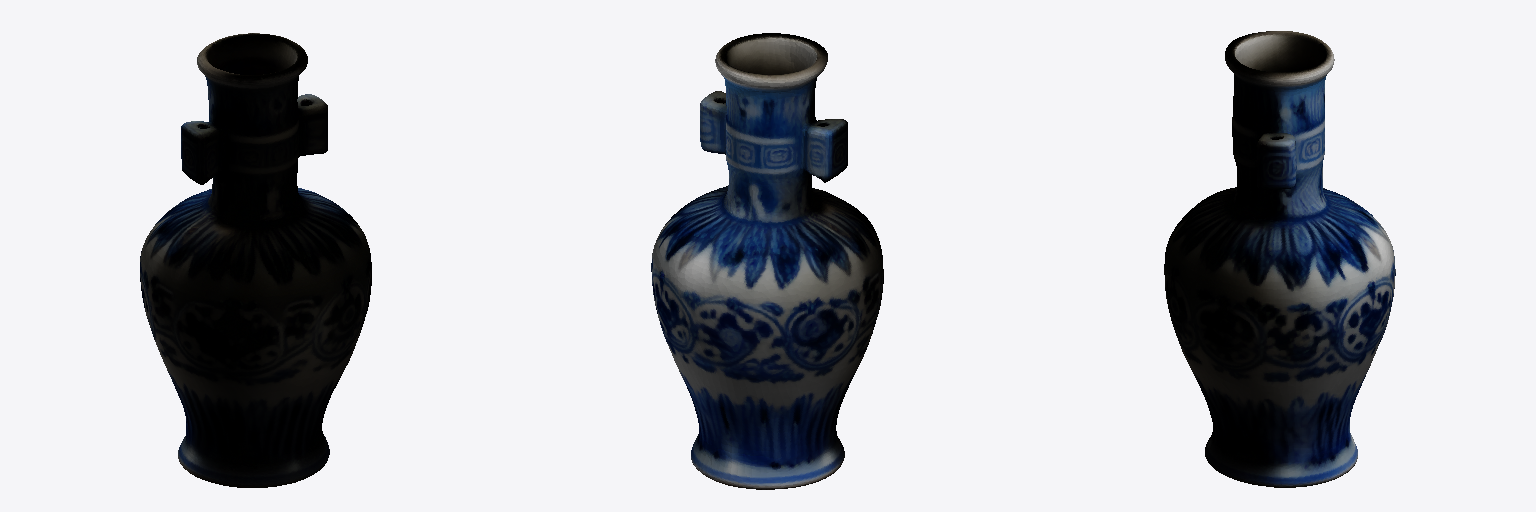
The picture shows the model from 3 angles: view 1: azimuth 30°, elevation 25°; view 2: azimuth 150°, elevation 25°; view 3: azimuth 270°, elevation 25°; orthographic projection.
Parts seen in each view (by area): view 1: geometry_0; view 2: geometry_0; view 3: geometry_0.
Part boxes in pixels (x1,y1,x2,y2): geometry_0: (140, 33, 371, 487); geometry_0: (651, 33, 883, 489); geometry_0: (1164, 31, 1395, 487).
Bounding box in the file's own units: 0.5198 × 0.999 × 0.517.
Materials: 1 (1 with a texture image).